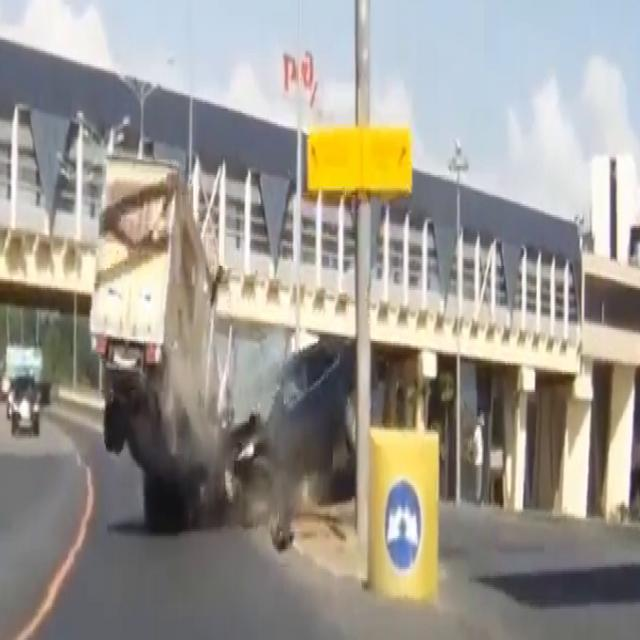accident: (90, 132, 373, 556)
